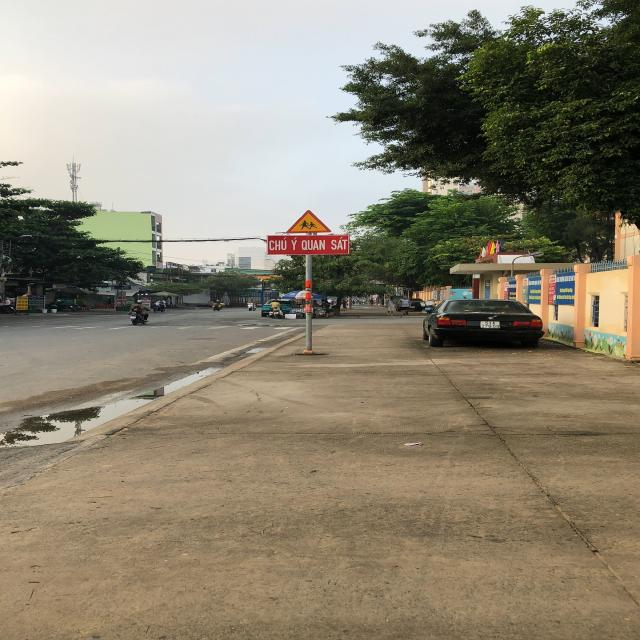Bien bao tre em: (283, 209, 336, 233)
